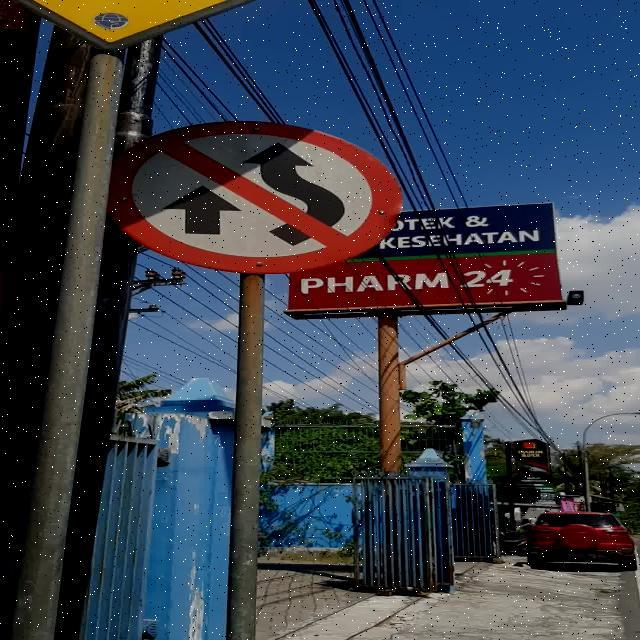Dilarang Mendahului: (116, 120, 400, 272)
